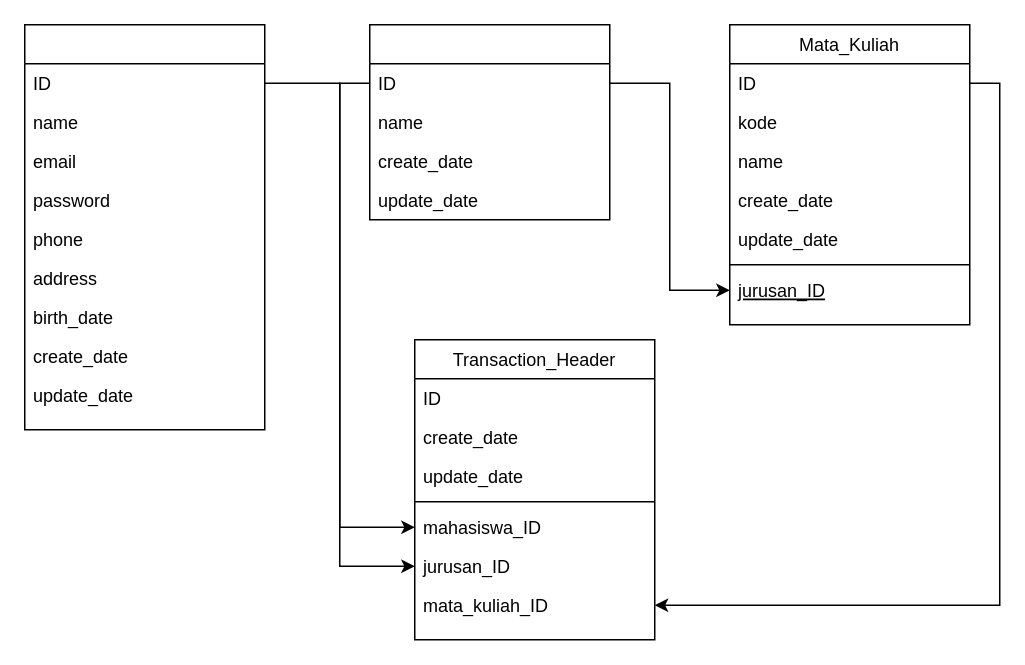
This 1025x665 diagram has some shape labels left out. Each missing label, with the box of its shape:
Jurusan: (368, 23, 610, 220)
Mahasiswa: (23, 23, 265, 430)
